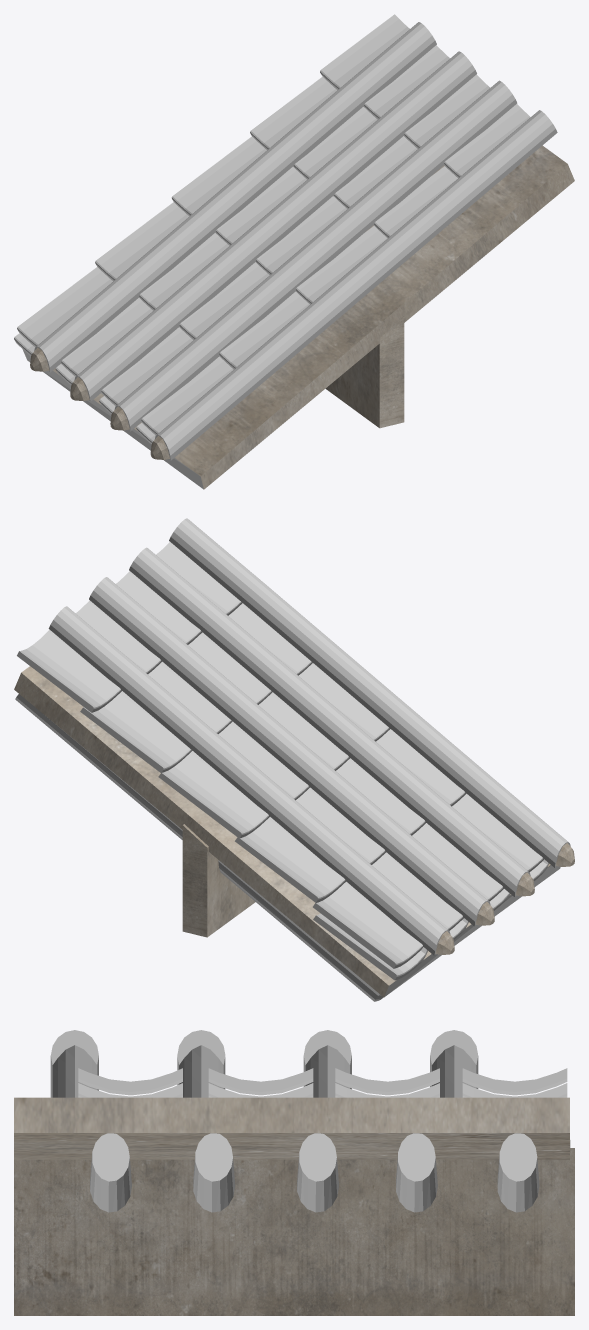
Rendered from SM_Roof_53.fbx.
The picture shows the model from 3 angles, top to bottom: view 1: azimuth 30°, elevation 25°; view 2: azimuth 150°, elevation 25°; view 3: azimuth 270°, elevation 25°; orthographic projection. The views are drawn at different scales.
Visible parts, largest first — view 1: SM_Roof_53; view 2: SM_Roof_53; view 3: SM_Roof_53.
Boxes of the visible parts, <box> form: SM_Roof_53: <box>14,14,574,489</box>; SM_Roof_53: <box>14,518,574,1001</box>; SM_Roof_53: <box>14,1030,574,1315</box>.
Size of the model in its own units: 315 by 233 by 215.
